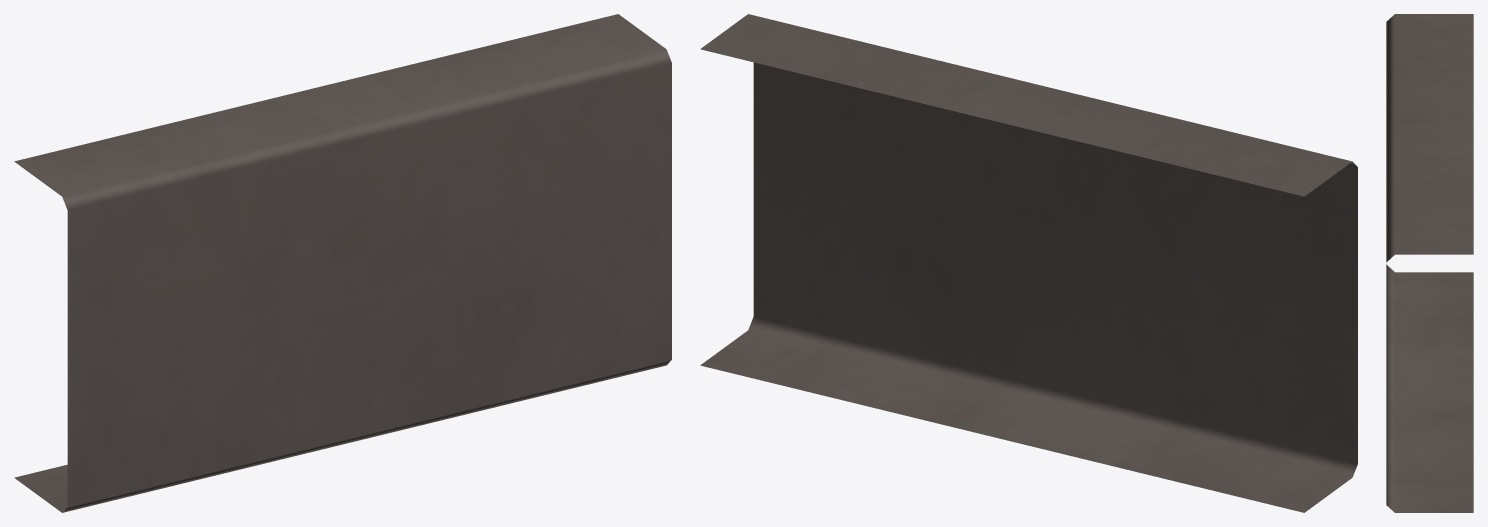
Rendered from ExteriorWallHorizontal.fbx.
3 views of the same model, side by side, from view 1: azimuth 30°, elevation 25°; view 2: azimuth 150°, elevation 25°; view 3: azimuth 270°, elevation 25° (orthographic). The views are drawn at different scales.
Parts seen in each view (by area): view 1: ExteriorWallHorizontal; view 2: ExteriorWallHorizontal; view 3: ExteriorWallHorizontal.
Boxes of the visible parts, bbox=[...] form: ExteriorWallHorizontal: bbox=[14, 14, 671, 512]; ExteriorWallHorizontal: bbox=[700, 14, 1357, 512]; ExteriorWallHorizontal: bbox=[1386, 14, 1473, 512].
Size of the model in its own units: 400 by 200 by 61.39.
1 material, 1 textured.
